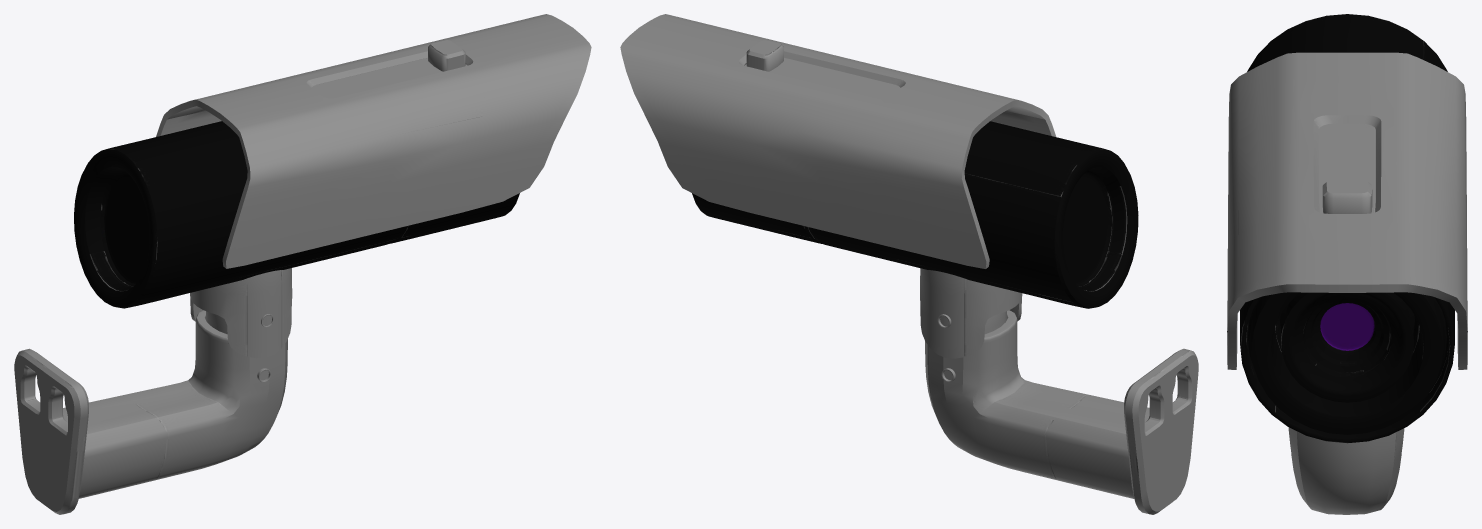
The model's file is cctv.glb.
3 views of the same model, side by side, from view 1: azimuth 30°, elevation 25°; view 2: azimuth 150°, elevation 25°; view 3: azimuth 270°, elevation 25° (orthographic). The views are drawn at different scales.
Parts seen in each view (by area): view 1: Cylinder.003; view 2: Cylinder.003; view 3: Cylinder.003.
Boxes of the visible parts, x1,y1,x2,y2 form: Cylinder.003: (14,14,591,514); Cylinder.003: (620,14,1198,514); Cylinder.003: (1227,14,1467,514).
Size of the model in its own units: 11.34 by 7.43 by 3.32.
1 material, 1 textured.
